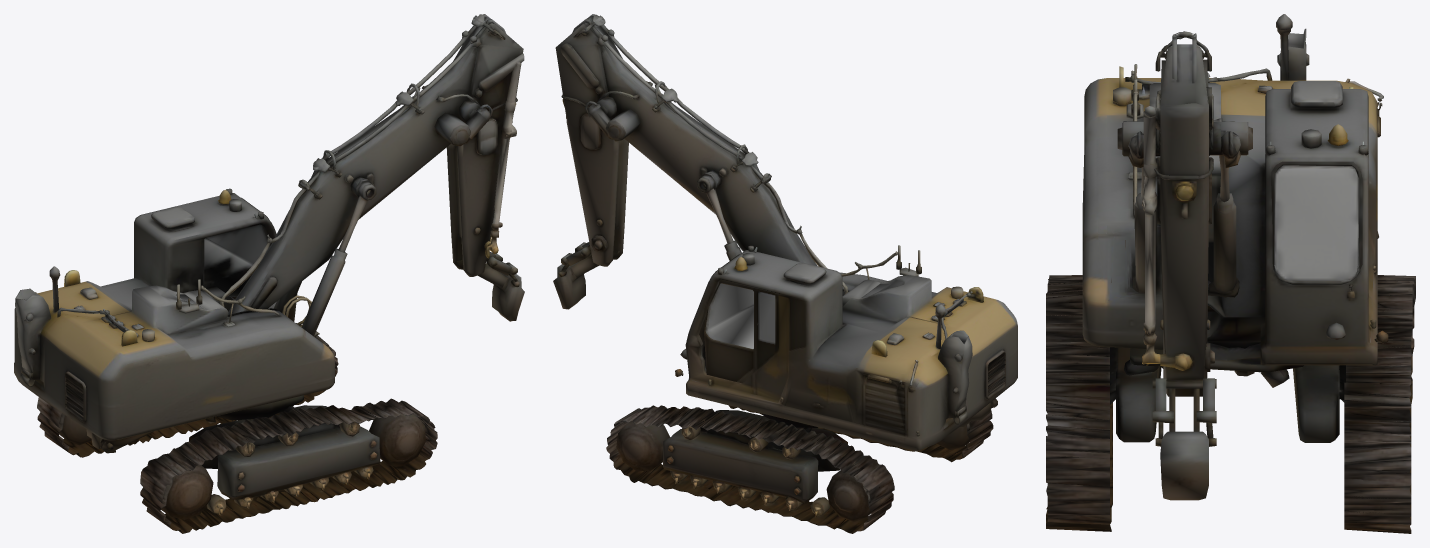
Rendered from ch5_meridian_excavation_drill_LOD0.glb.
3 views of the same model, side by side, from view 1: azimuth 30°, elevation 25°; view 2: azimuth 150°, elevation 25°; view 3: azimuth 270°, elevation 25° (orthographic). The views are drawn at different scales.
Parts seen in each view (by area): view 1: tripo_node_13f6a4f9-93a8-4128-ba44-0d37c125c6b2; view 2: tripo_node_13f6a4f9-93a8-4128-ba44-0d37c125c6b2; view 3: tripo_node_13f6a4f9-93a8-4128-ba44-0d37c125c6b2.
Boxes of the visible parts, <box> form: tripo_node_13f6a4f9-93a8-4128-ba44-0d37c125c6b2: <box>14,14,524,533</box>; tripo_node_13f6a4f9-93a8-4128-ba44-0d37c125c6b2: <box>553,14,1017,533</box>; tripo_node_13f6a4f9-93a8-4128-ba44-0d37c125c6b2: <box>1046,14,1415,533</box>.
Bounding box in the file's own units: 0.998 × 0.834 × 0.4746.
Materials: 1 (1 with a texture image).
